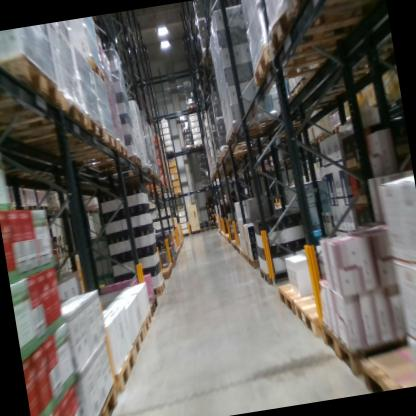pallet: (318, 306, 414, 389), (260, 0, 389, 61), (248, 24, 351, 94), (0, 43, 66, 144), (0, 83, 90, 152), (29, 107, 108, 163), (355, 339, 416, 393), (51, 127, 118, 161), (71, 140, 132, 174), (277, 277, 319, 325), (227, 114, 290, 144), (292, 290, 327, 344), (287, 0, 385, 17), (223, 121, 286, 147), (81, 380, 125, 416), (112, 344, 141, 397), (94, 153, 145, 183), (86, 54, 109, 88), (259, 262, 291, 286), (217, 141, 255, 159), (128, 323, 148, 357), (139, 307, 153, 334), (151, 278, 167, 298), (147, 293, 159, 315), (138, 164, 154, 179), (247, 254, 261, 270), (314, 131, 329, 145), (25, 203, 40, 215), (159, 266, 171, 280), (330, 124, 342, 137), (165, 147, 175, 158), (200, 224, 211, 234), (39, 202, 49, 212), (306, 139, 318, 147), (209, 222, 221, 230), (170, 190, 183, 197), (243, 252, 250, 264), (233, 239, 241, 249), (186, 103, 197, 110), (191, 228, 200, 236), (166, 262, 173, 272), (239, 247, 246, 257), (193, 141, 203, 148), (202, 183, 213, 189), (231, 238, 239, 246), (182, 231, 191, 238), (235, 244, 241, 254), (185, 144, 193, 151)
